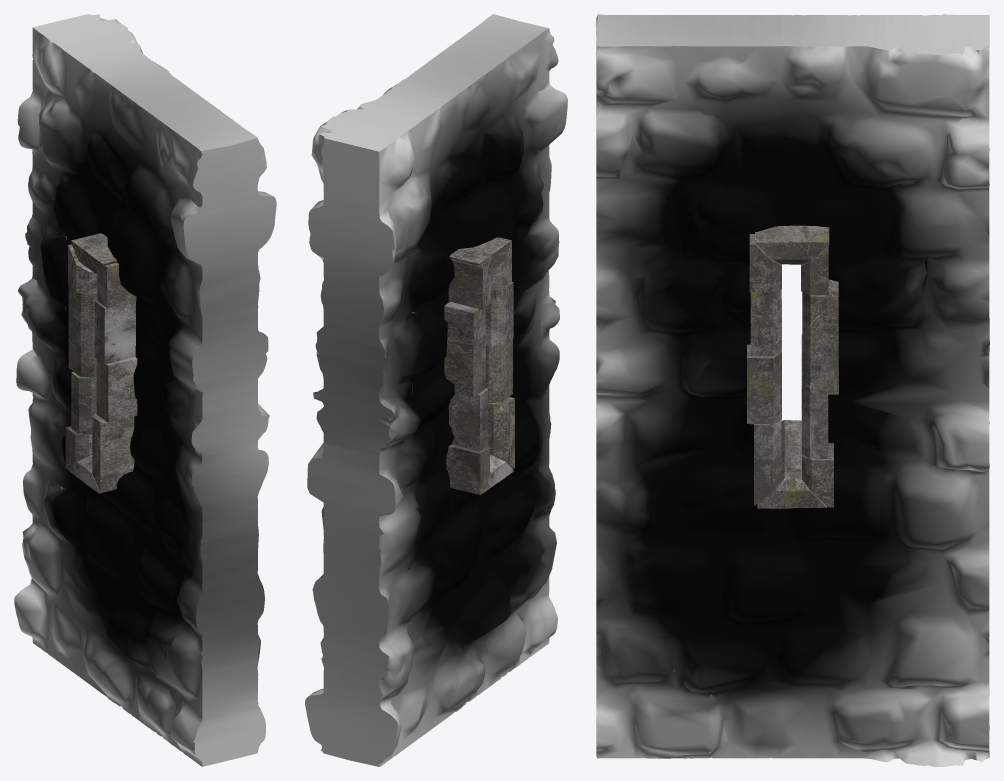
File: SM_CastleTower_Window_A_14.fbx
3 renders of one model, left to right at view 1: azimuth 30°, elevation 25°; view 2: azimuth 150°, elevation 25°; view 3: azimuth 270°, elevation 25°, orthographic. The views are drawn at different scales.
Visible parts, largest first — view 1: SM_CastleTower_Window_A_14_LOD0; view 2: SM_CastleTower_Window_A_14_LOD0; view 3: SM_CastleTower_Window_A_14_LOD0.
Boxes of the visible parts, x1,y1,x2,y2 form: SM_CastleTower_Window_A_14_LOD0: (14,14,276,766); SM_CastleTower_Window_A_14_LOD0: (305,14,567,766); SM_CastleTower_Window_A_14_LOD0: (596,14,989,766).
Size of the model in its own units: 82.21 by 200 by 400.
